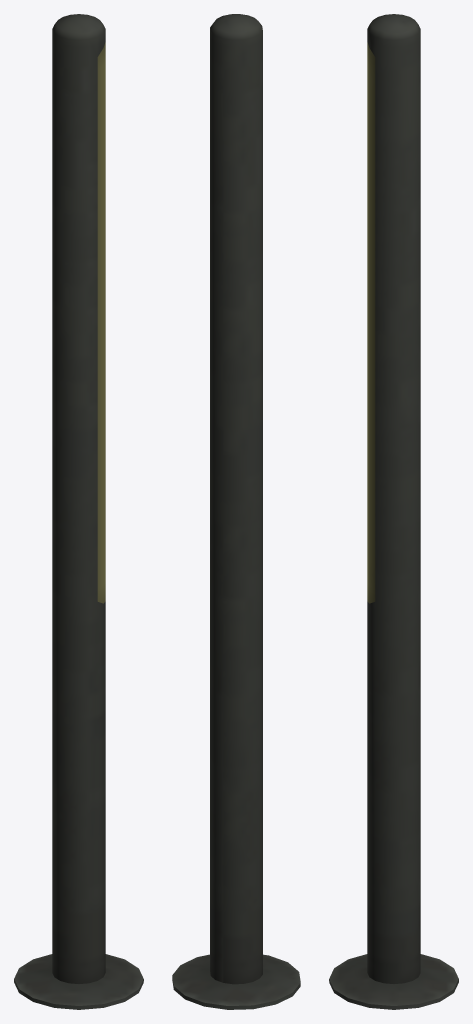
File: objects_un_c03streetlight01.gltf
3 views of the same model, side by side, from view 1: azimuth 90°, elevation 25°; view 2: azimuth 150°, elevation 25°; view 3: azimuth 270°, elevation 25° (orthographic).
Parts seen in each view (by area): view 1: nomerge_light01_shape:objects_un_c03streetlight01_obj01; view 2: nomerge_light01_shape:objects_un_c03streetlight01_obj01; view 3: nomerge_light01_shape:objects_un_c03streetlight01_obj01.
Boxes of the visible parts, <box> form: nomerge_light01_shape:objects_un_c03streetlight01_obj01: <box>14,14,143,1009</box>; nomerge_light01_shape:objects_un_c03streetlight01_obj01: <box>172,14,300,1009</box>; nomerge_light01_shape:objects_un_c03streetlight01_obj01: <box>329,14,458,1009</box>.
Size of what is drawn, in the model's own units: 0.6215 by 5.1 by 0.6218.
1 material, 1 textured.
